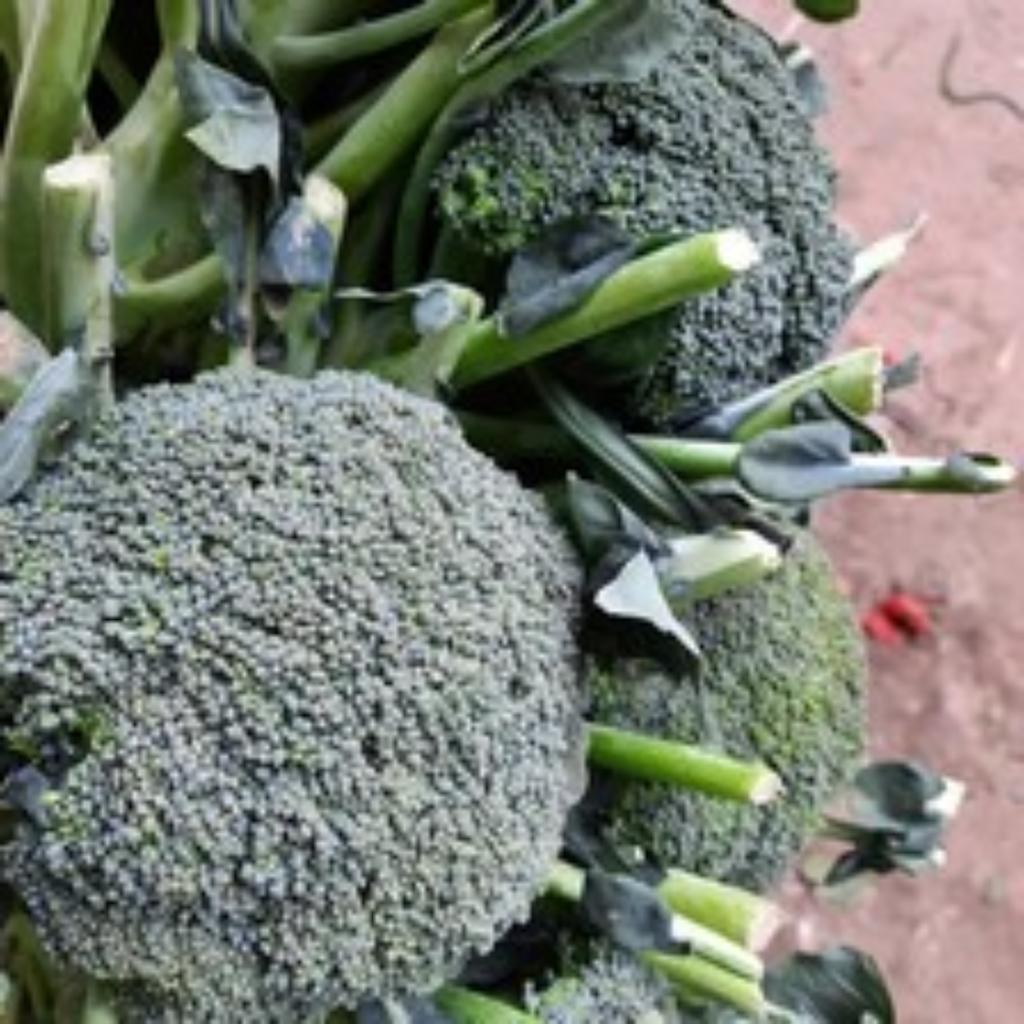Broccoli: (0, 370, 580, 1024), (0, 370, 580, 1023), (434, 0, 854, 423), (434, 0, 854, 421), (590, 536, 862, 889), (590, 536, 862, 889)
